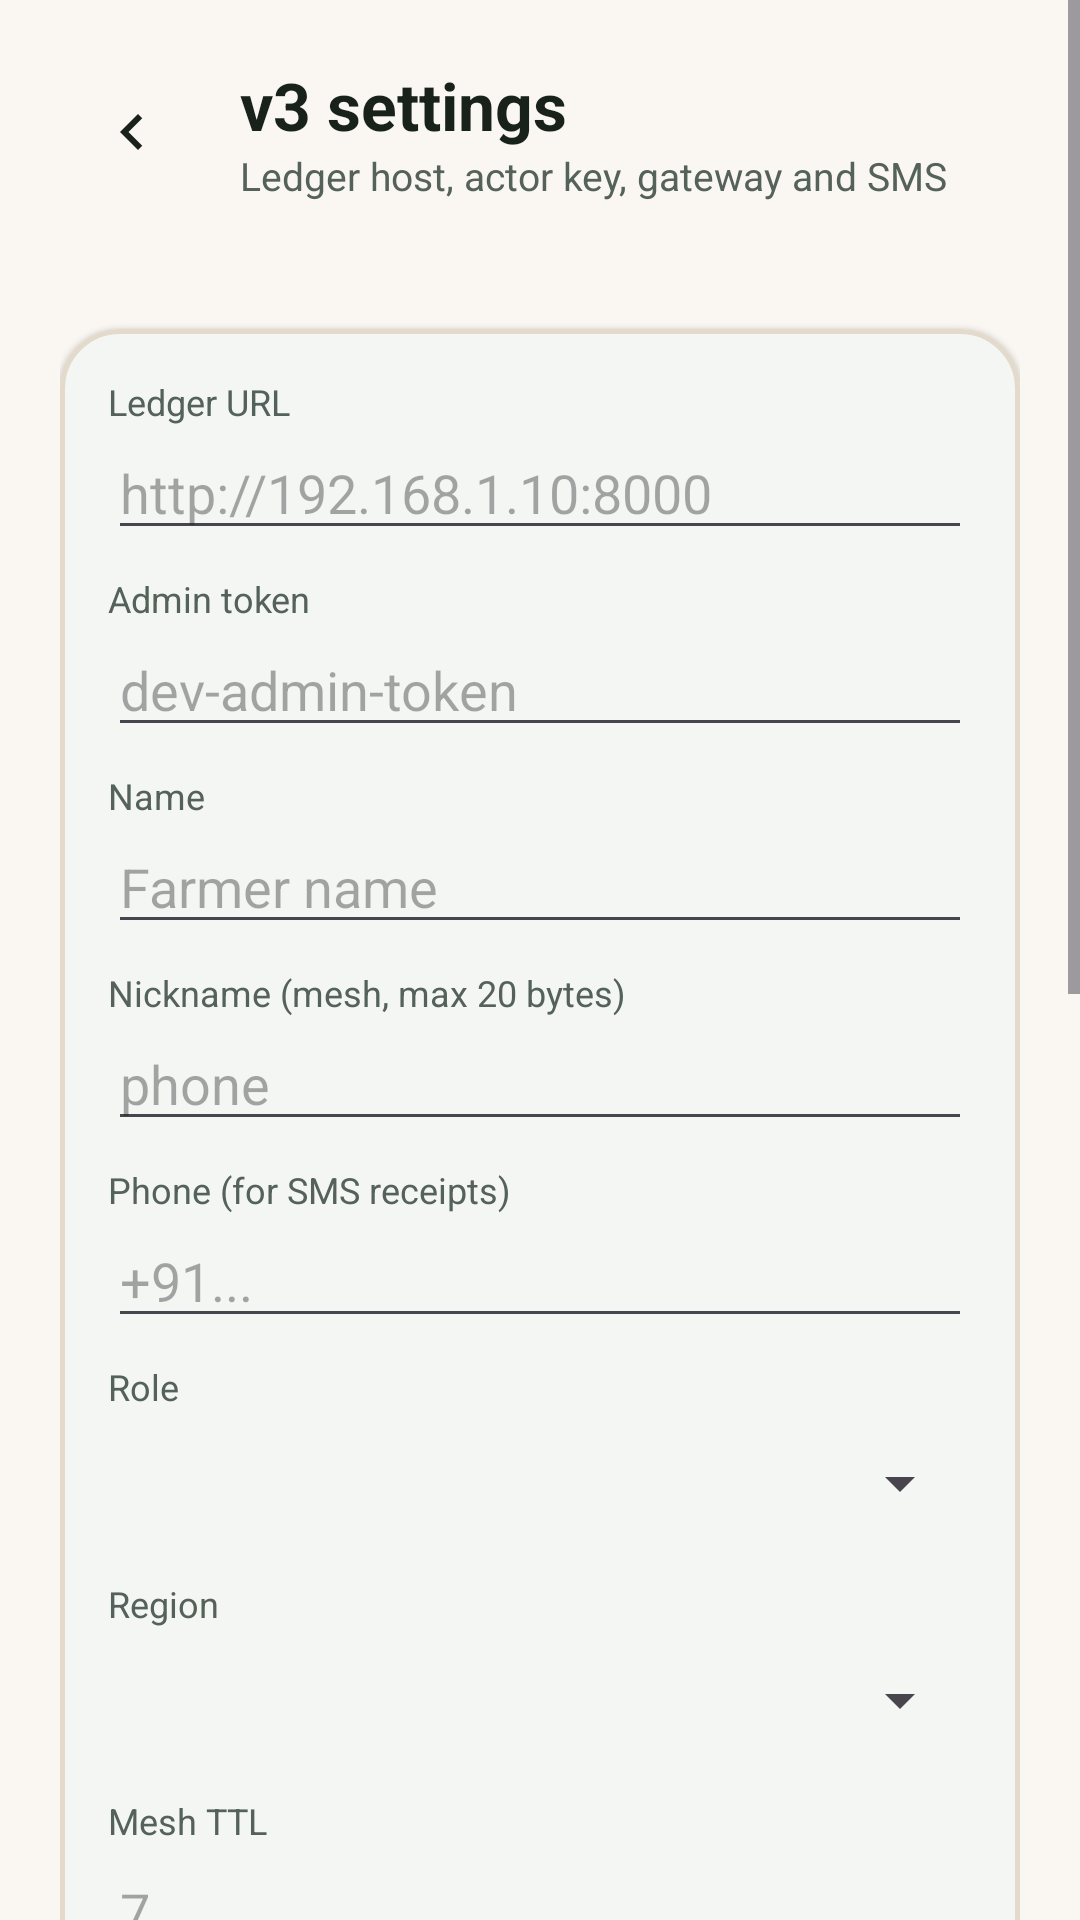

Named icons in this screenshot (1080×1920) and their centers, (x=x, y=y):
Back: (x=131, y=132)
